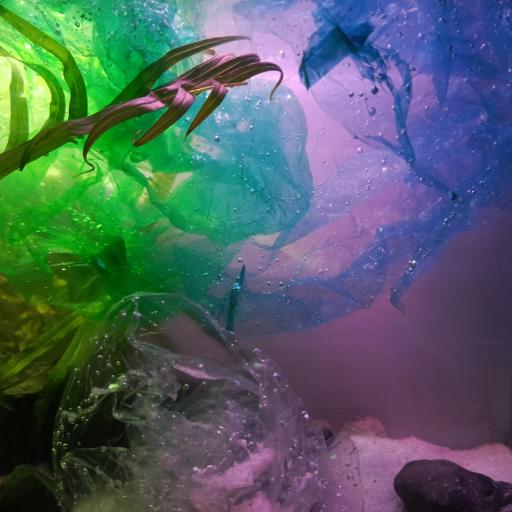plastic_bag: (187, 0, 512, 333), (0, 0, 314, 322), (49, 287, 355, 512)
